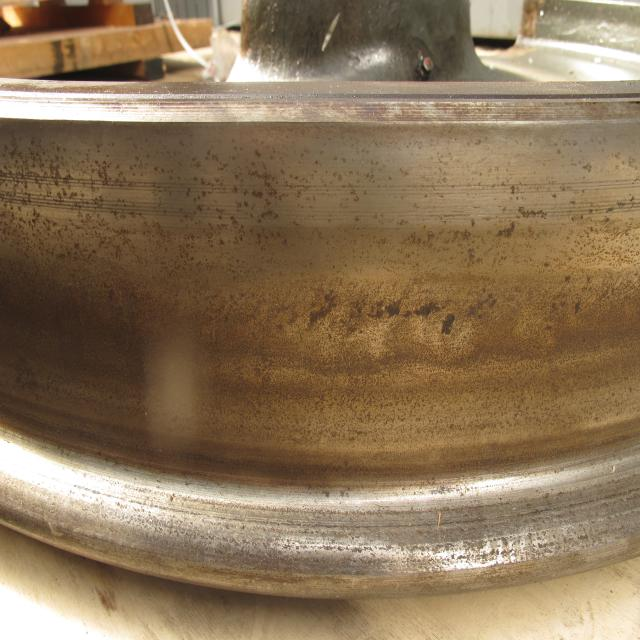Contact_Fatigue_Cracks: (309, 293, 339, 326), (355, 297, 387, 321), (389, 304, 439, 319), (515, 207, 550, 220), (498, 221, 516, 244), (444, 313, 456, 337)
